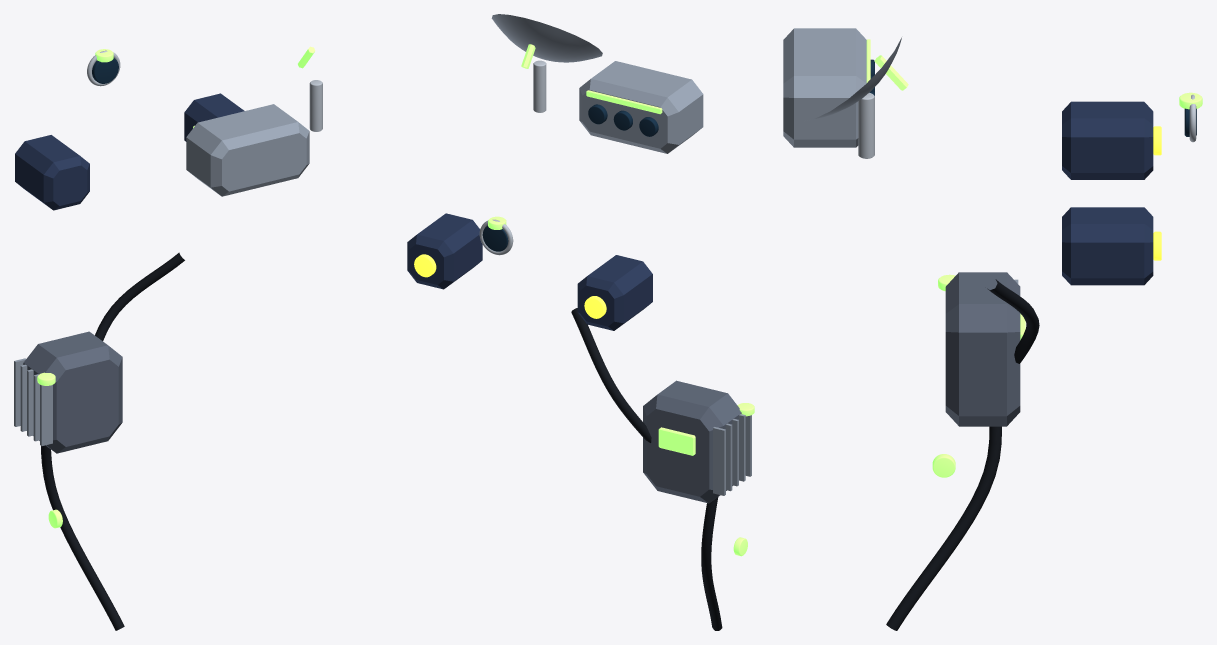
Rendered from tower_detector_analysis_s9.glb.
3 views of the same model, side by side, from view 1: azimuth 30°, elevation 25°; view 2: azimuth 150°, elevation 25°; view 3: azimuth 270°, elevation 25° (orthographic). The views are drawn at different scales.
Visible parts, largest first — view 1: detector_cluster, detector_recorder, detector_mark_projector_b, detector_recorder_fins, detector_harness_b, detector_harness_a, detector_mark_projector, detector_uplink_post, detector_analysis_lens; view 2: detector_recorder, detector_cluster, detector_mark_projector_b, detector_mark_projector, detector_uplink_dish, detector_recorder_fins, detector_harness_a, detector_harness_b, detector_recorder_face, detector_uplink_post, detector_cluster_bar, detector_analysis_lens; view 3: detector_recorder, detector_cluster, detector_mark_projector, detector_mark_projector_b, detector_harness_b, detector_harness_a, detector_uplink_post, detector_uplink_dish.
Part boxes in pixels (left/top/right/bottom): detector_cluster: left=186, top=104, right=309, bottom=196; detector_recorder: left=23, top=331, right=122, bottom=453; detector_mark_projector_b: left=15, top=135, right=89, bottom=210; detector_recorder_fins: left=14, top=358, right=52, bottom=445; detector_harness_b: left=41, top=445, right=124, bottom=630; detector_harness_a: left=95, top=252, right=184, bottom=340; detector_mark_projector: left=184, top=93, right=244, bottom=141; detector_uplink_post: left=309, top=80, right=322, bottom=131; detector_analysis_lens: left=92, top=58, right=118, bottom=83; detector_recorder: left=643, top=380, right=741, bottom=503; detector_cluster: left=579, top=61, right=703, bottom=153; detector_mark_projector_b: left=577, top=255, right=652, bottom=330; detector_mark_projector: left=407, top=213, right=482, bottom=289; detector_uplink_dish: left=491, top=14, right=602, bottom=62; detector_recorder_fins: left=713, top=414, right=751, bottom=495; detector_harness_a: left=571, top=308, right=651, bottom=442; detector_harness_b: left=701, top=497, right=722, bottom=630; detector_recorder_face: left=658, top=427, right=695, bottom=455; detector_uplink_post: left=533, top=60, right=546, bottom=112; detector_cluster_bar: left=586, top=90, right=662, bottom=114; detector_analysis_lens: left=482, top=225, right=508, bottom=251; detector_recorder: left=945, top=272, right=1020, bottom=426; detector_cluster: left=783, top=28, right=866, bottom=147; detector_mark_projector: left=1062, top=207, right=1153, bottom=285; detector_mark_projector_b: left=1062, top=101, right=1153, bottom=179; detector_harness_b: left=886, top=426, right=1001, bottom=630; detector_harness_a: left=987, top=279, right=1039, bottom=363; detector_uplink_post: left=858, top=92, right=874, bottom=158; detector_uplink_dish: left=812, top=37, right=901, bottom=119.
Size of the model in its own units: 1.05 by 1.92 by 1.01.
